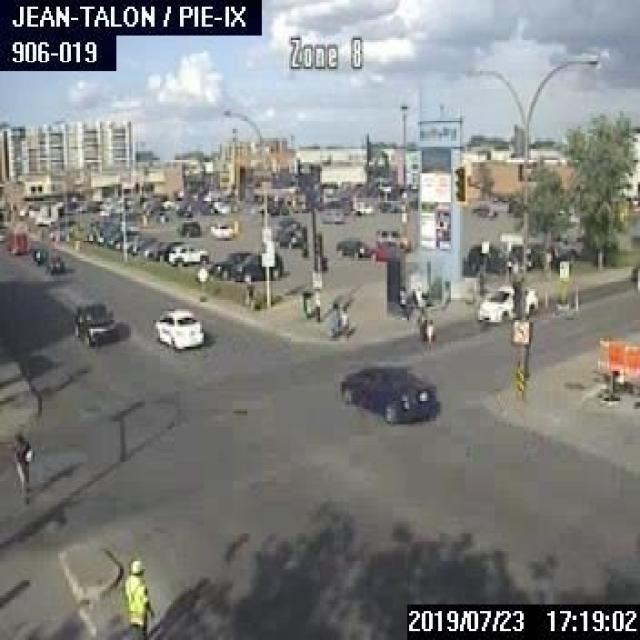construction: (597, 338, 638, 399)
pedestrian: (122, 556, 156, 638), (9, 431, 32, 498), (242, 271, 254, 311), (327, 298, 338, 336), (416, 315, 425, 352), (338, 298, 346, 334), (425, 317, 433, 351)
vehicle: (336, 362, 434, 422), (472, 282, 536, 322), (69, 300, 115, 347), (152, 307, 204, 347), (229, 252, 281, 280), (465, 243, 512, 273), (210, 249, 252, 277), (167, 243, 208, 265), (334, 236, 368, 258), (147, 240, 184, 259), (364, 243, 400, 261), (374, 228, 405, 248), (5, 226, 27, 254), (274, 226, 302, 246), (45, 253, 64, 274), (176, 220, 200, 236), (27, 243, 46, 262), (472, 204, 497, 217), (321, 208, 342, 222), (209, 222, 231, 235), (277, 215, 299, 228), (354, 200, 373, 213)
